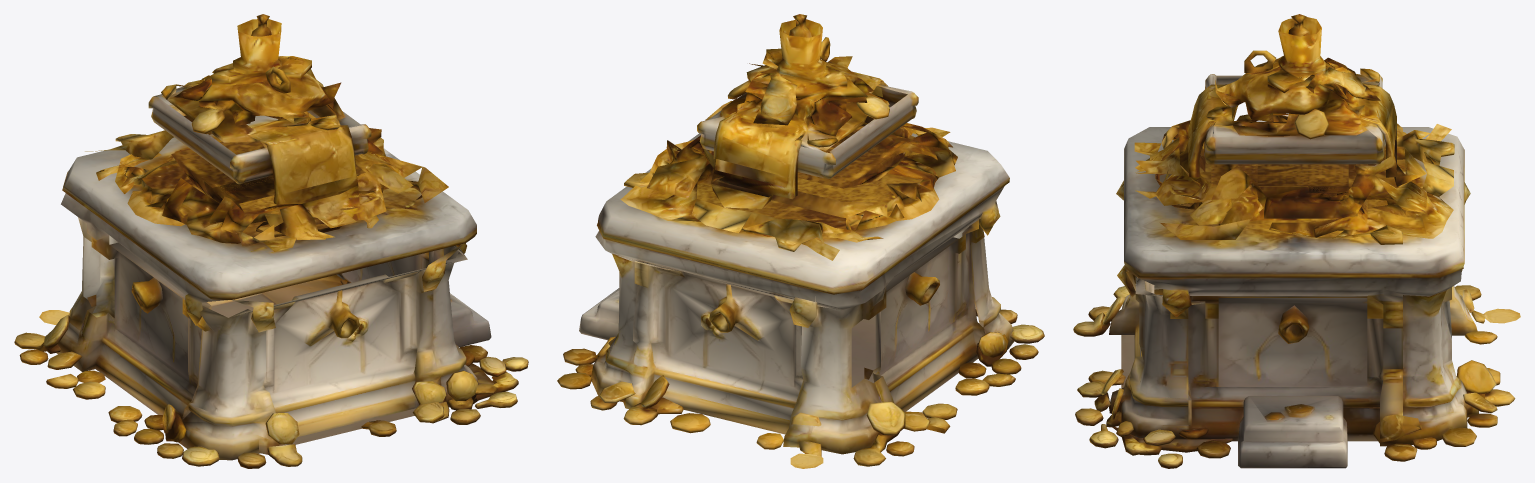
The picture shows the model from 3 angles, left to right: view 1: azimuth 30°, elevation 25°; view 2: azimuth 150°, elevation 25°; view 3: azimuth 270°, elevation 25°; orthographic projection.
Visible parts, largest first — view 1: tripo_node_a202caf4-be6c-4ffe-90a5-6cfbebf0f3f8; view 2: tripo_node_a202caf4-be6c-4ffe-90a5-6cfbebf0f3f8; view 3: tripo_node_a202caf4-be6c-4ffe-90a5-6cfbebf0f3f8.
Boxes of the visible parts, x1,y1,x2,y2 form: tripo_node_a202caf4-be6c-4ffe-90a5-6cfbebf0f3f8: (14, 14, 528, 468); tripo_node_a202caf4-be6c-4ffe-90a5-6cfbebf0f3f8: (557, 14, 1044, 468); tripo_node_a202caf4-be6c-4ffe-90a5-6cfbebf0f3f8: (1073, 14, 1520, 468).
Bounding box in the file's own units: 0.9804 × 0.8708 × 0.9824.
Materials: 1 (1 with a texture image).
